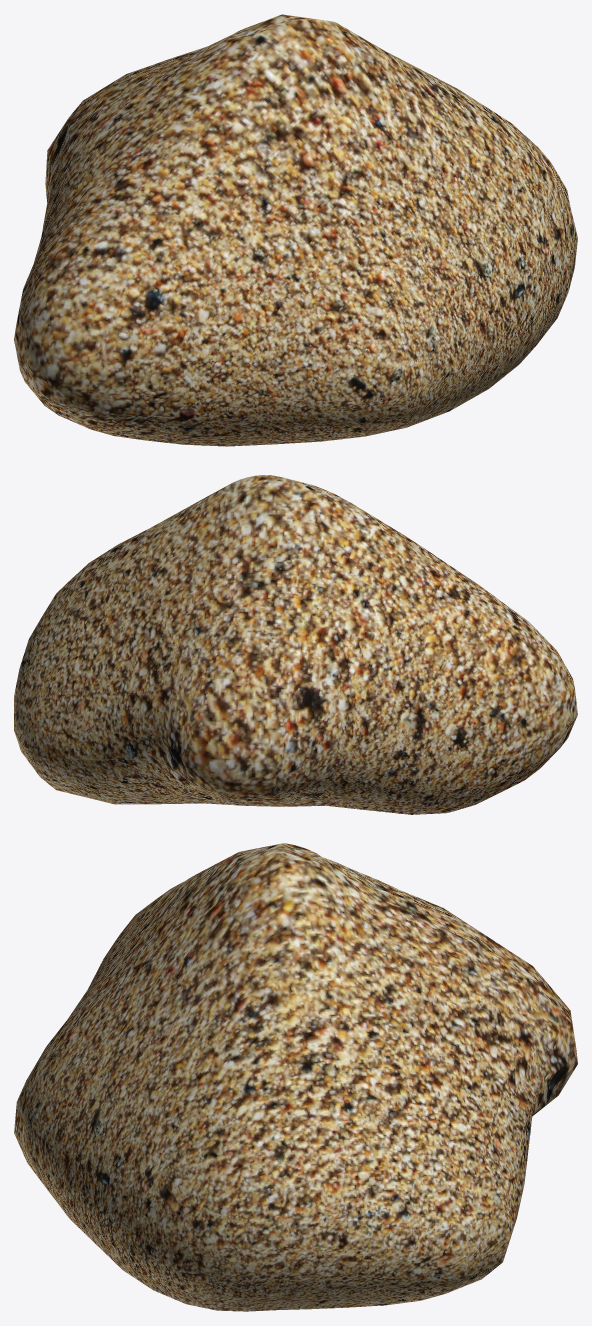
File: sand.glb
3 views of the same model, one above another, from view 1: azimuth 30°, elevation 25°; view 2: azimuth 150°, elevation 25°; view 3: azimuth 270°, elevation 25° (orthographic). The views are drawn at different scales.
Visible parts, largest first — view 1: sand; view 2: sand; view 3: sand.
Part boxes in pixels (x1,y1,x2,y2): sand: (14,14,577,446); sand: (14,475,577,814); sand: (14,843,577,1311).
Size of the model in its own units: 0.1 by 0.0584 by 0.0833.
1 material, 1 textured.
